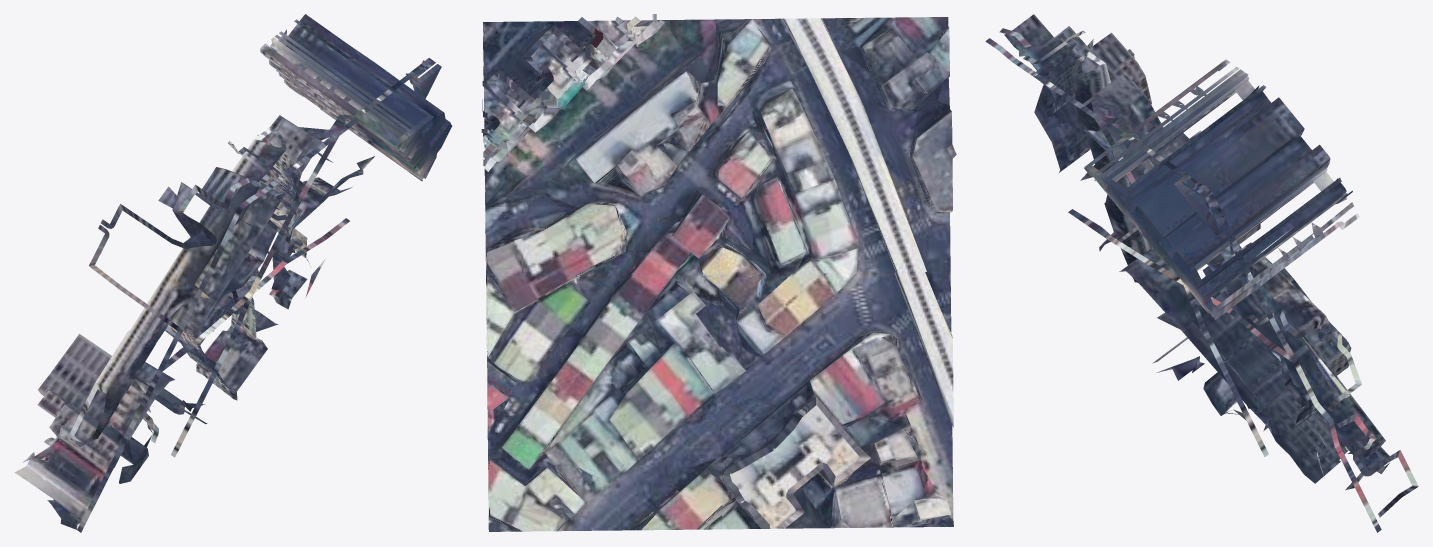
The picture shows the model from 3 angles, left to right: view 1: azimuth 30°, elevation 25°; view 2: azimuth 150°, elevation 25°; view 3: azimuth 270°, elevation 25°; orthographic projection. The views are drawn at different scales.
Size of the model in its own units: 169 by 158 by 141.
Materials: 2 (2 with a texture image).
